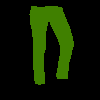jeans: (29, 5, 74, 84)
